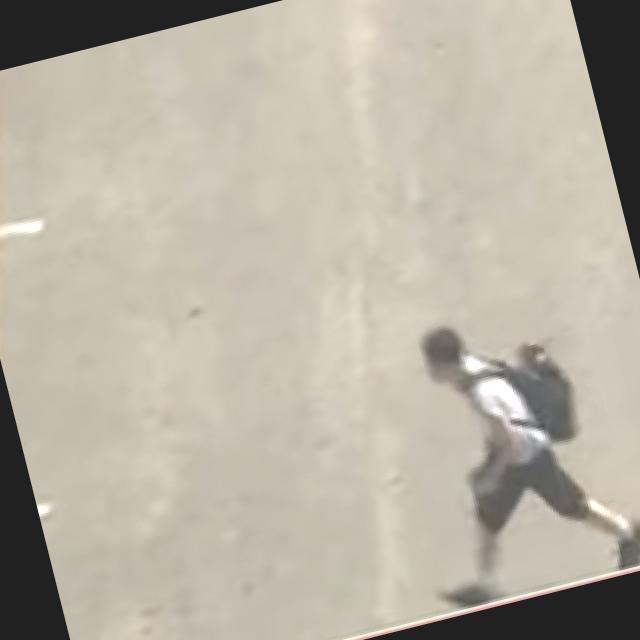person: (378, 284, 640, 613)
